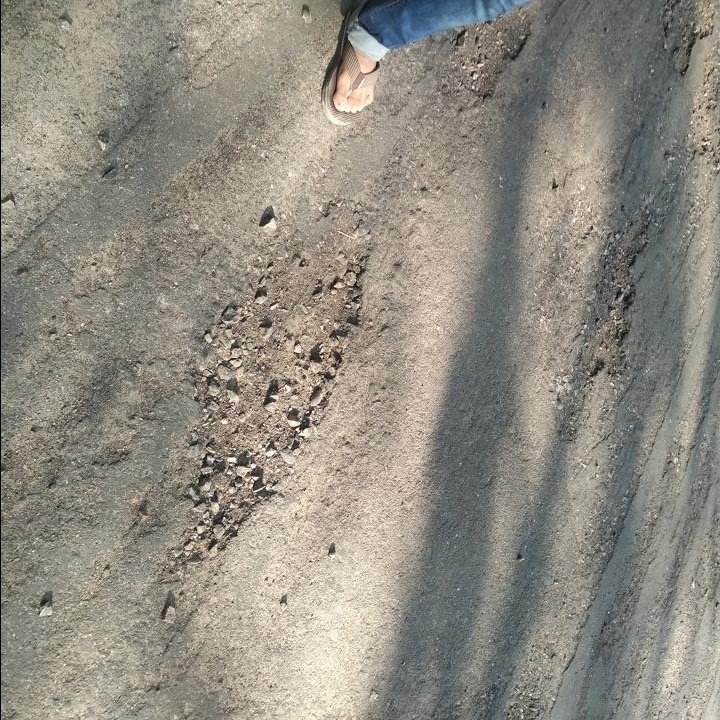pothole: (162, 222, 379, 576), (577, 206, 652, 383), (448, 11, 538, 104), (682, 36, 720, 170), (660, 0, 720, 76)
